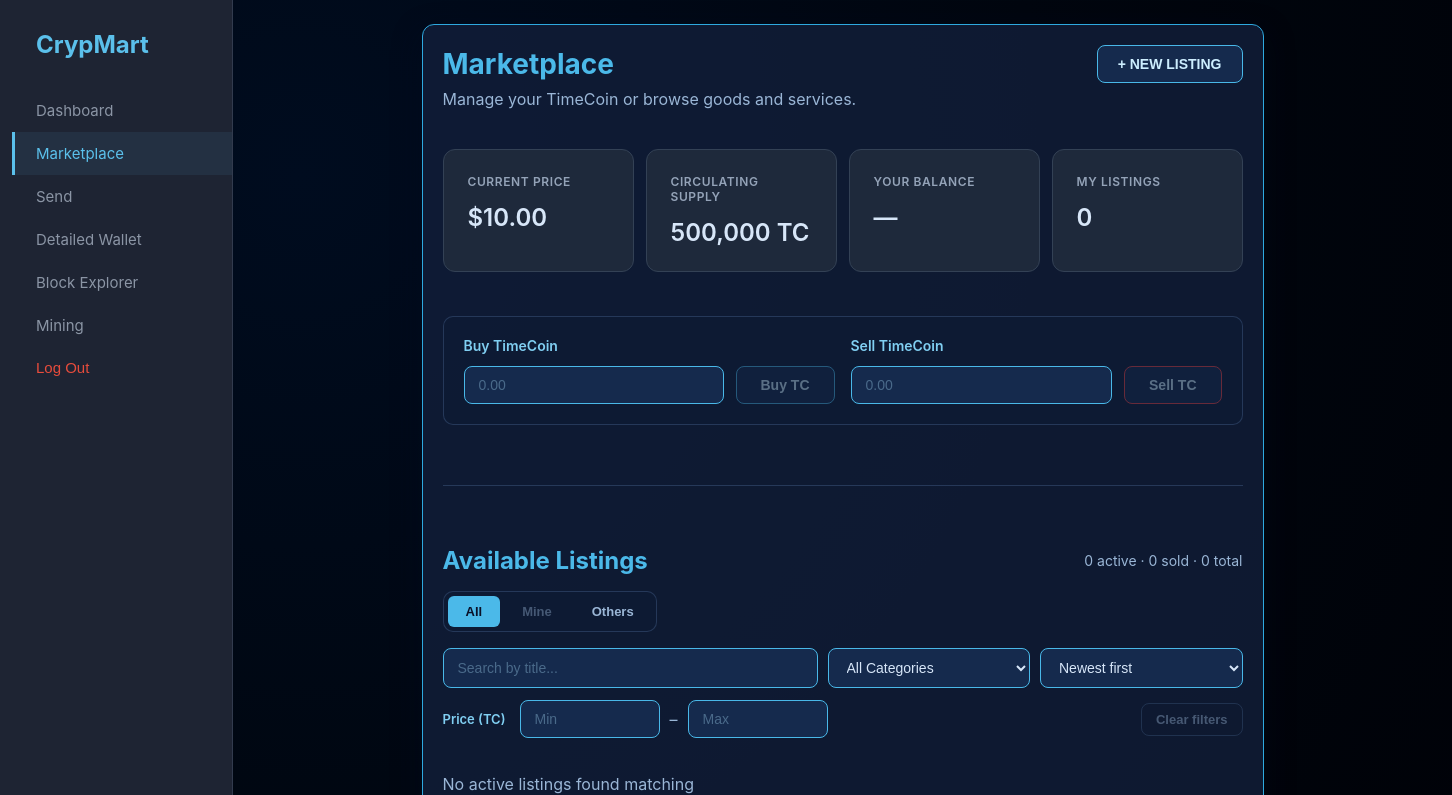
Marketplace — buy form interactions › shows validation error if amount is invalid
Type "-1" into the number field with test id "amount-input" showing "Buy TimeCoin".
click(594, 385); type("-1")  # box [464,366,724,404]
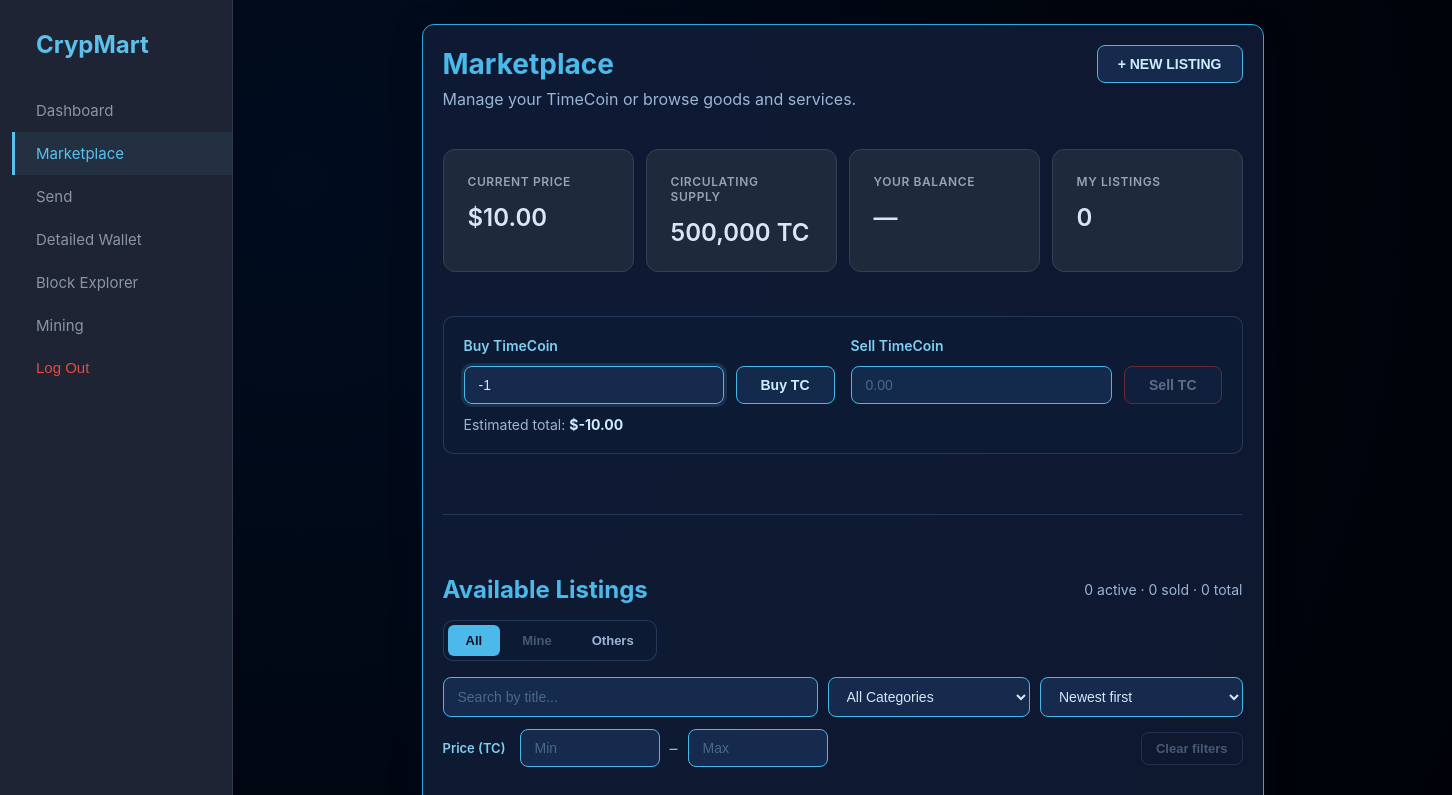
Click the button with test id "buy-button" showing "Buy TC".
click(785, 385)  # box [736,366,834,404]
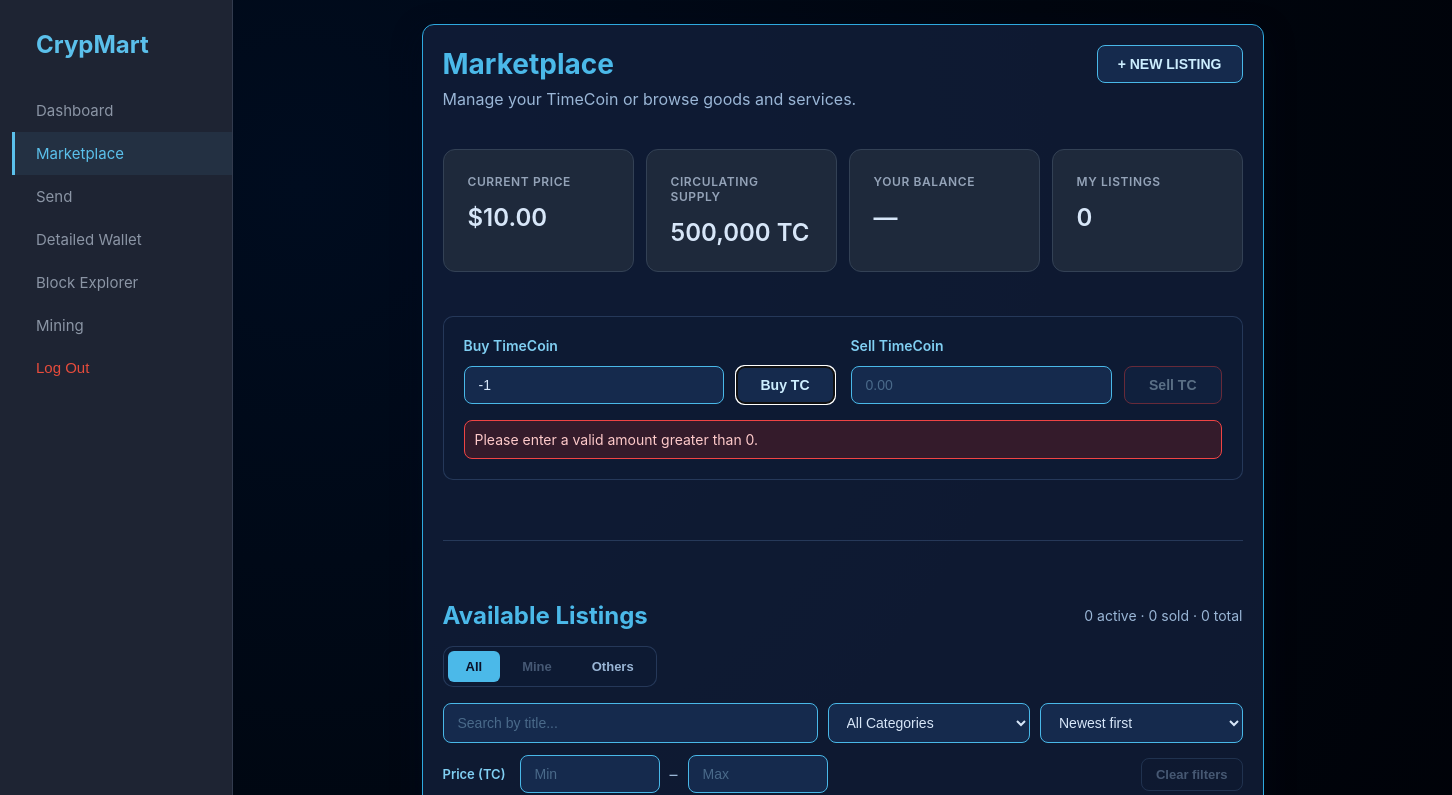
Expected: the message with test id "status-message" shows "valid amount", [474,431,758,448]
